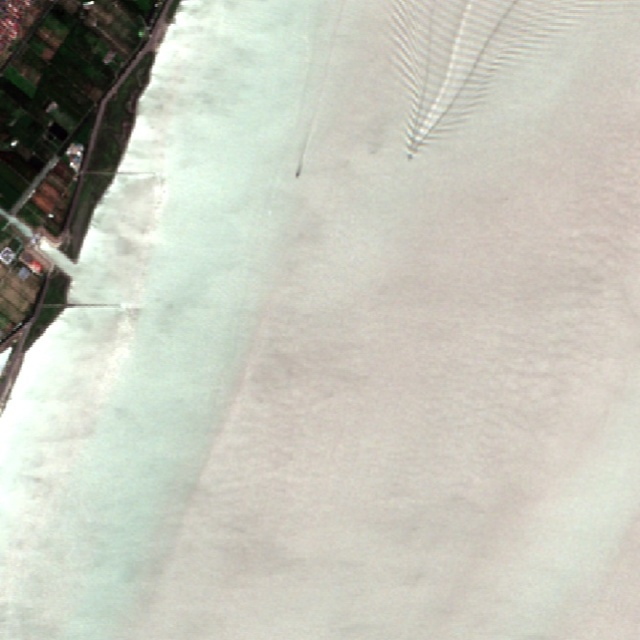wake: (366, 23, 498, 181)
